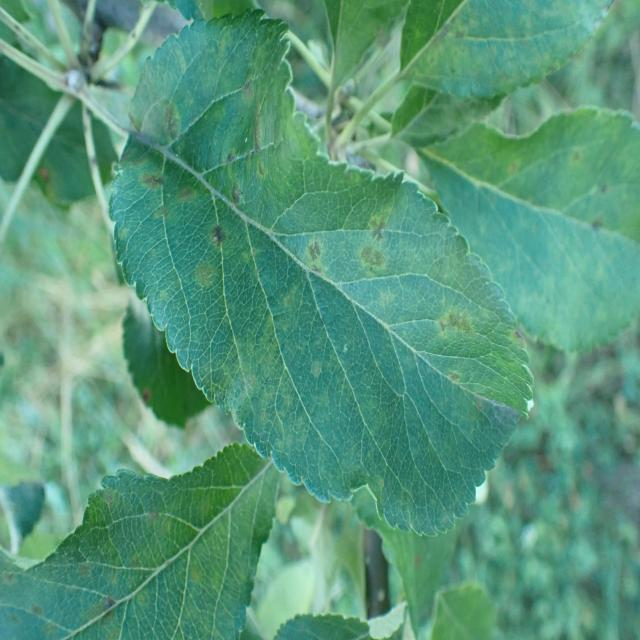scab: (106, 49, 487, 438), (11, 469, 261, 640), (401, 0, 630, 95)
